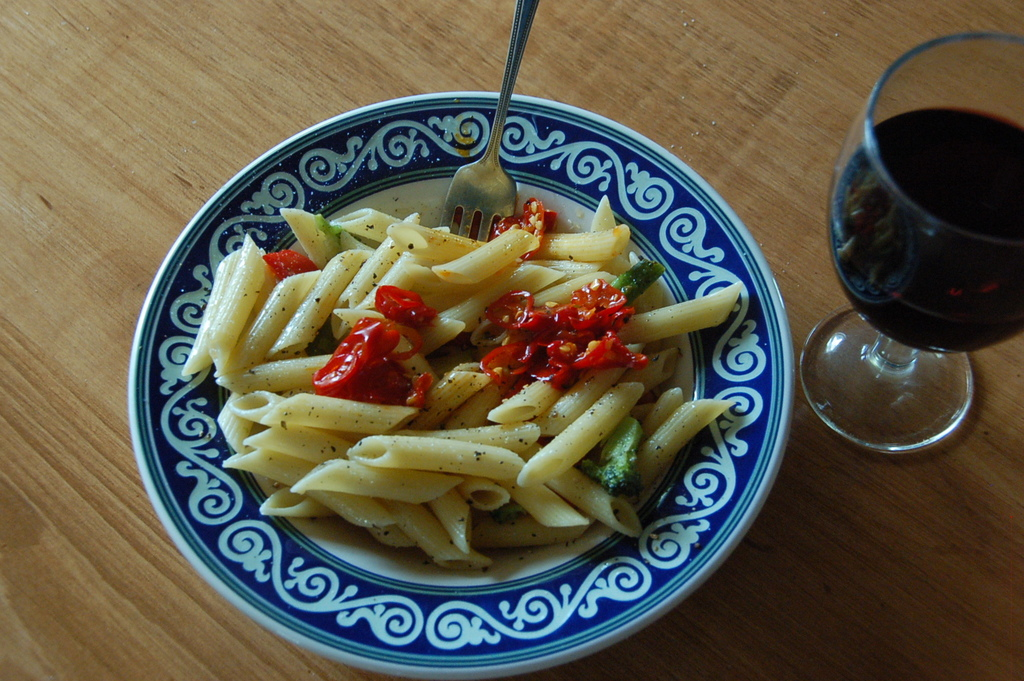pasta: (205, 164, 746, 567)
